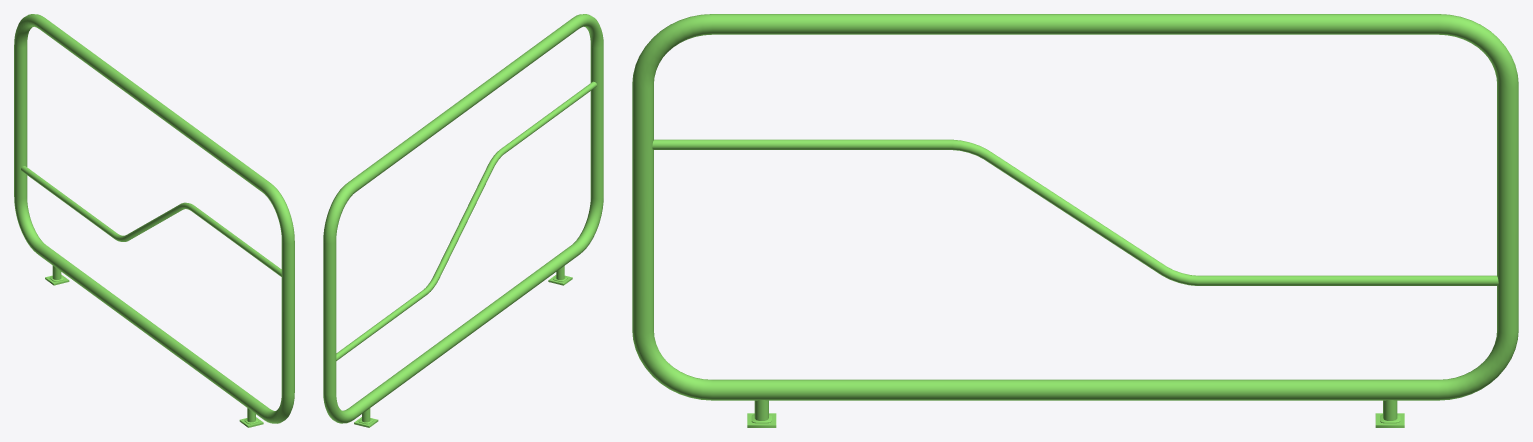
The model's file is Barrier.fbx.
3 renders of one model, left to right at view 1: azimuth 30°, elevation 25°; view 2: azimuth 150°, elevation 25°; view 3: azimuth 270°, elevation 25°, orthographic. The views are drawn at different scales.
Parts seen in each view (by area): view 1: SM_Barrier; view 2: SM_Barrier; view 3: SM_Barrier.
Boxes of the visible parts, x1=… form: SM_Barrier: x1=14, y1=14, x2=294, y2=427; SM_Barrier: x1=323, y1=14, x2=603, y2=427; SM_Barrier: x1=632, y1=14, x2=1518, y2=427.
Size of the model in its own units: 0.0547 by 0.8612 by 1.7.
